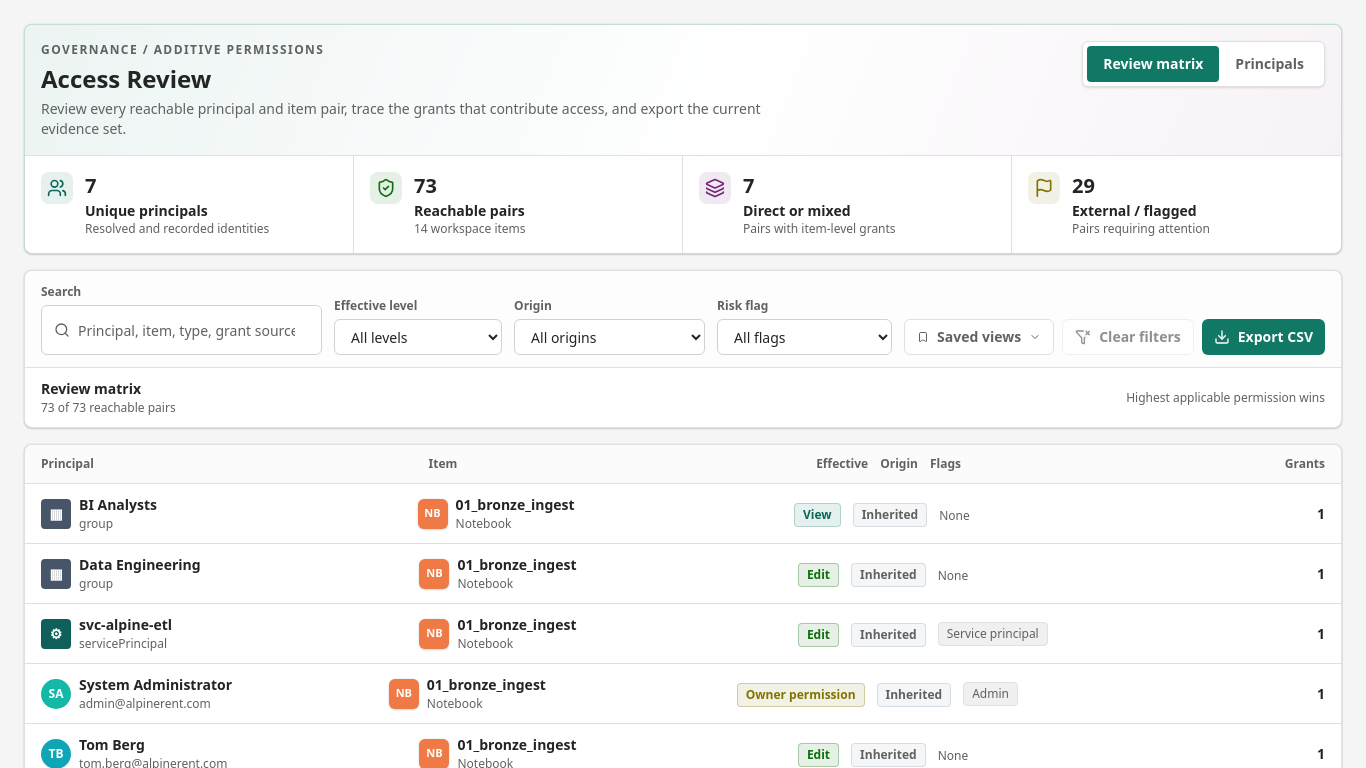
Test: AccessView › opens and closes row detail from the matrix
Type "Léa Martin" into the search field named "Search access reviews" at (194, 330), box [78,312,309,348]
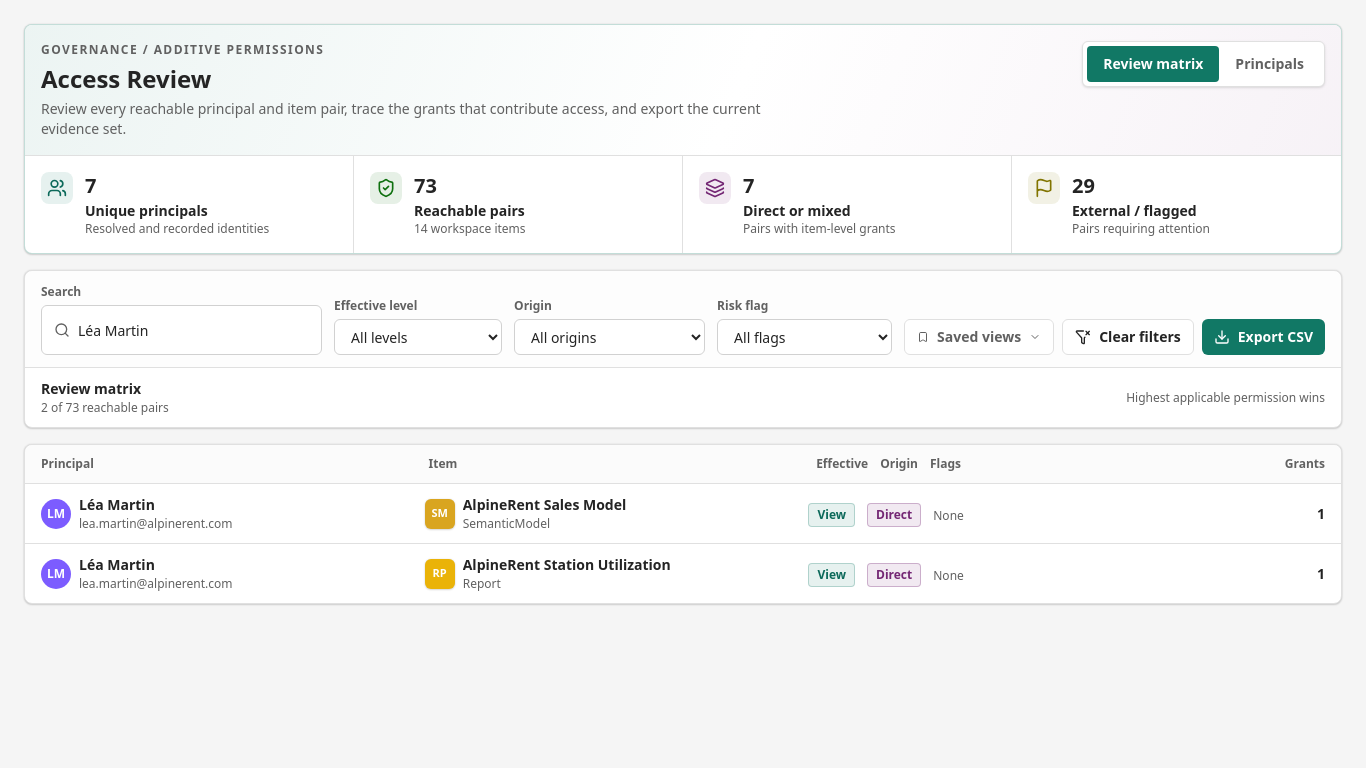
Click the option with aria-label "Review Léa Martin access to" at (117, 504), box [25,484,1341,544]
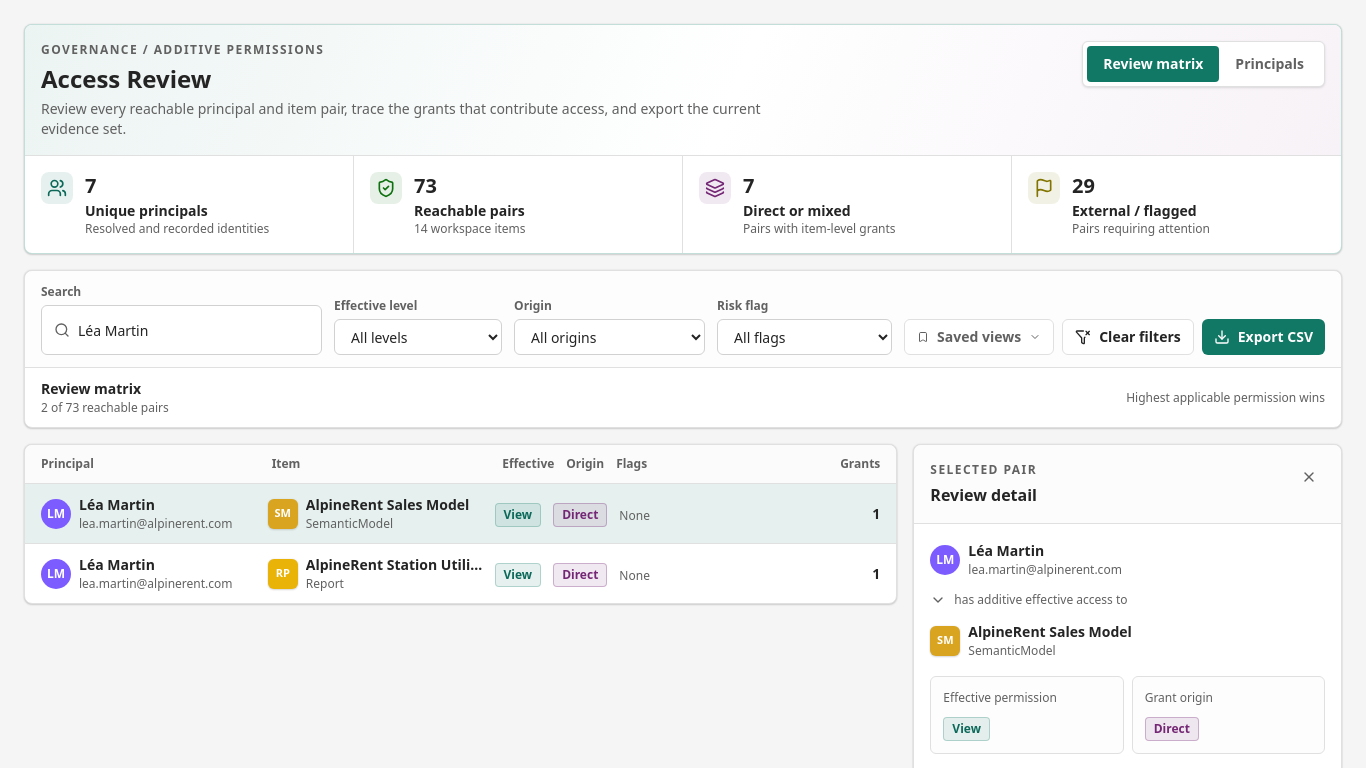
Click the button named "Close review detail" at (1309, 477), box [1293,461,1325,493]
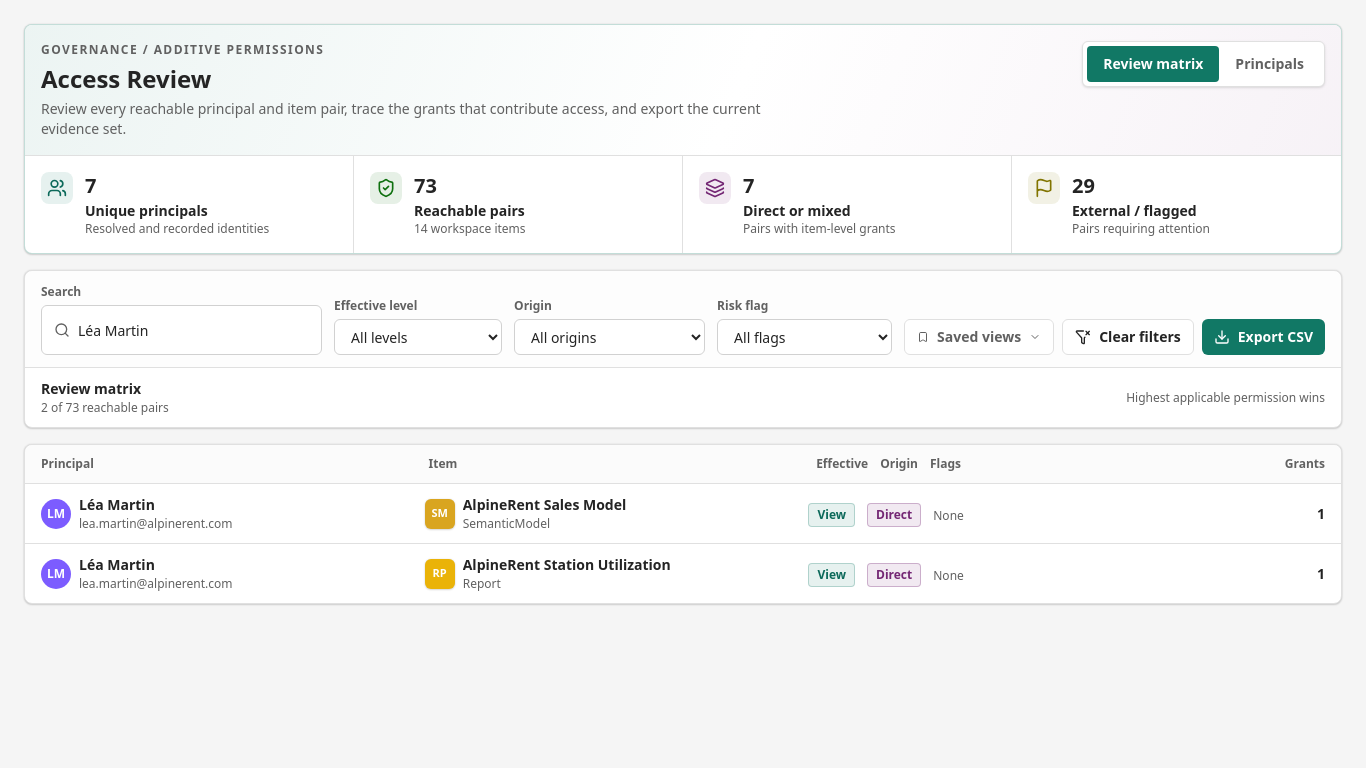
expect the heading "Review detail" is gone: met
